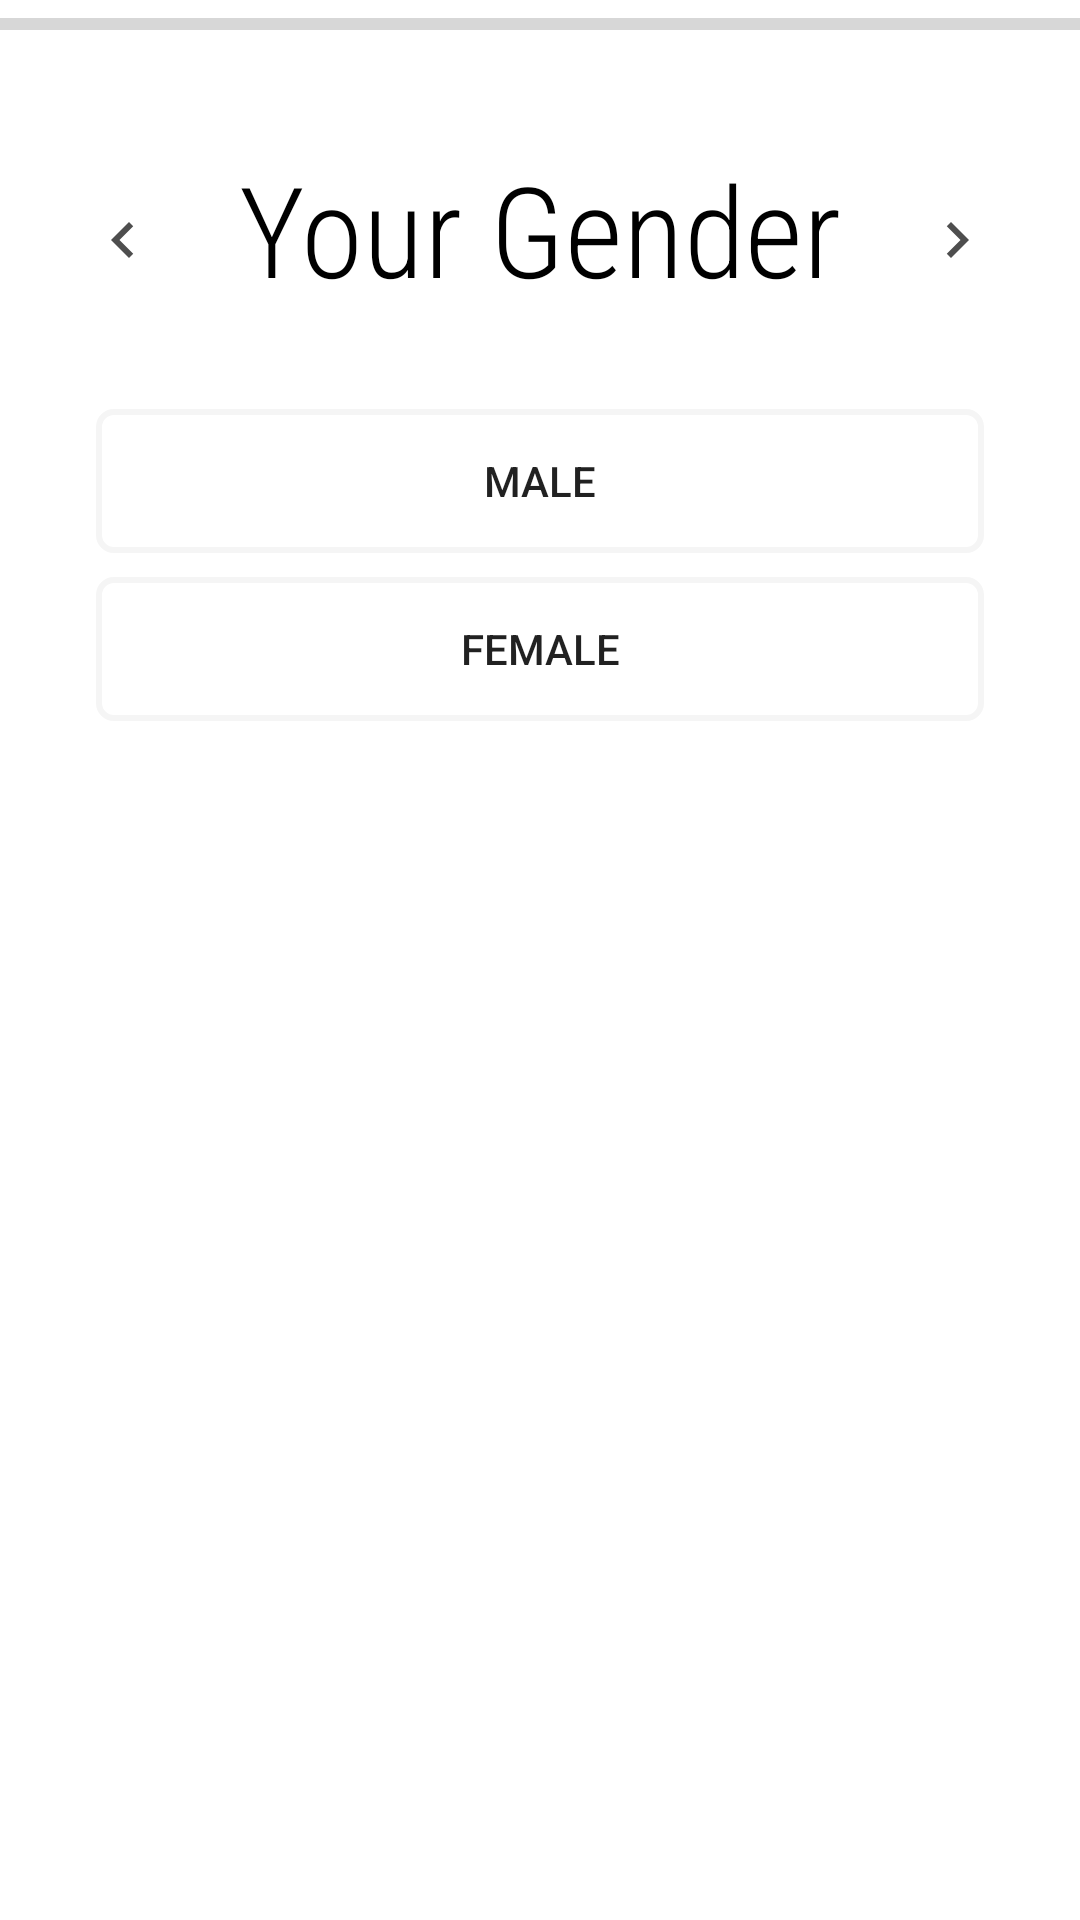

Named icons in this screenshot (1080×1920) and their bounding boxes, (x1, y1, x2, y2):
chevron left: (111, 222, 133, 258)
chevron right: (947, 222, 969, 258)
